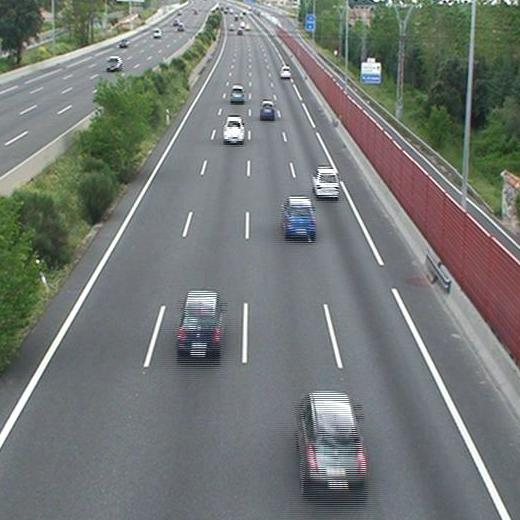car: (297, 393, 367, 491), (178, 290, 222, 355), (282, 198, 314, 237), (311, 167, 340, 198), (223, 116, 245, 142), (259, 101, 275, 119), (230, 86, 244, 102), (279, 67, 291, 79)
